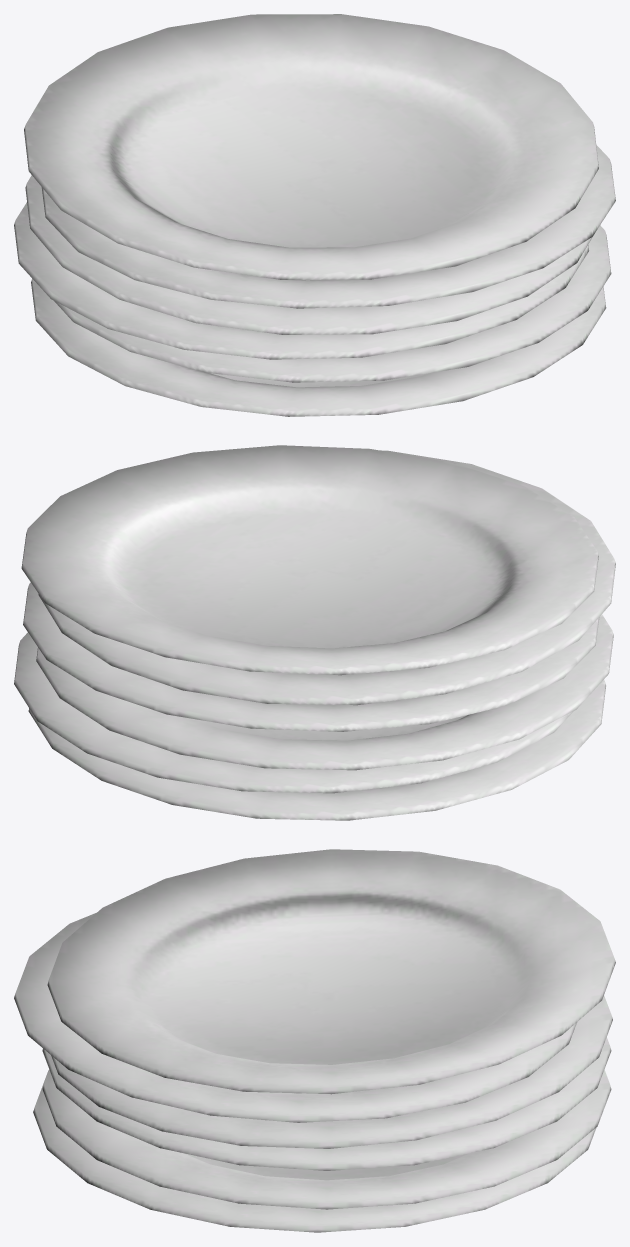
The model's file is plate_stack.dae.
3 renders of one model, top to bottom at view 1: azimuth 30°, elevation 25°; view 2: azimuth 150°, elevation 25°; view 3: azimuth 270°, elevation 25°, orthographic. The views are drawn at different scales.
Visible parts, largest first — view 1: plate__2_; view 2: plate__2_; view 3: plate__2_.
Boxes of the visible parts, bbox=[...] form: plate__2_: bbox=[14, 14, 615, 416]; plate__2_: bbox=[14, 445, 615, 820]; plate__2_: bbox=[14, 849, 615, 1232].
Size of the model in its own units: 0.6225 by 0.2237 by 0.6306.
